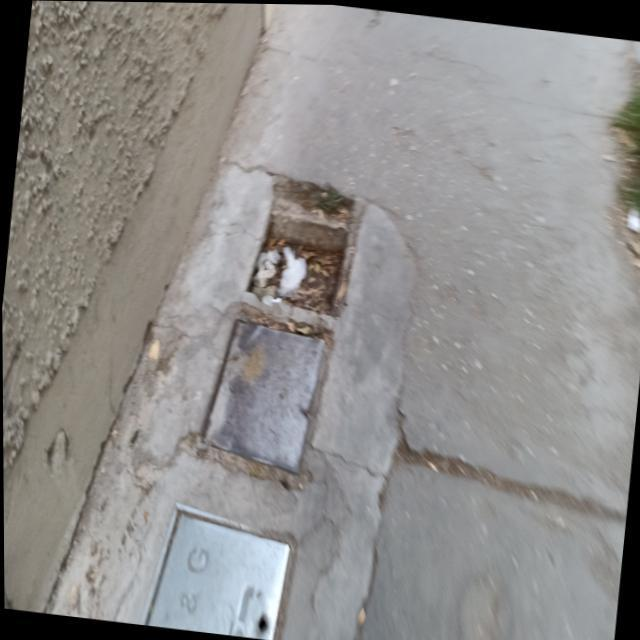hole: (241, 172, 368, 324)
